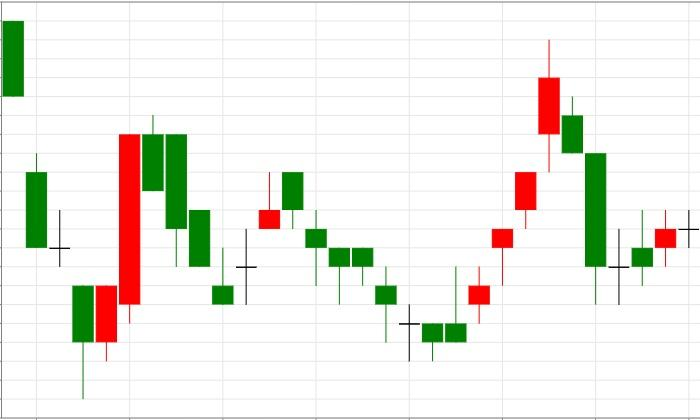inverse_hammer_rise: (143, 116, 234, 305)
